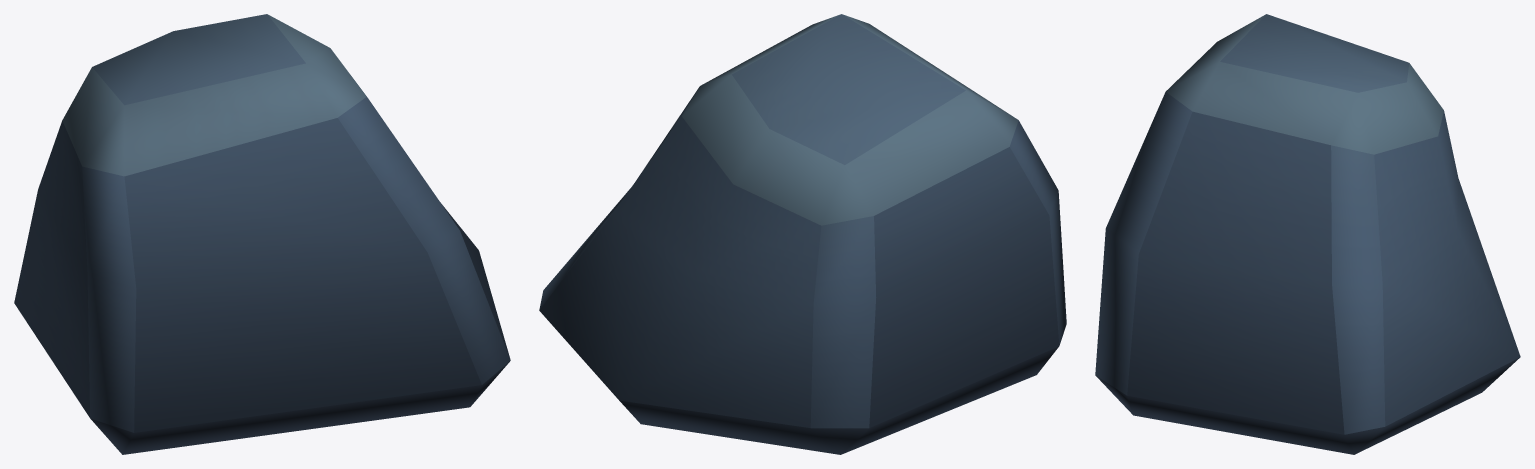
Rendered from rock_01.fbx.
3 views of the same model, side by side, from view 1: azimuth 30°, elevation 25°; view 2: azimuth 150°, elevation 25°; view 3: azimuth 270°, elevation 25° (orthographic). The views are drawn at different scales.
Parts seen in each view (by area): view 1: rock_01; view 2: rock_01; view 3: rock_01.
Boxes of the visible parts, box(x1,y1,x2,y2) form: rock_01: box(14, 14, 510, 454); rock_01: box(539, 14, 1066, 454); rock_01: box(1095, 14, 1520, 454).
Size of the model in its own units: 49.41 by 34.3 by 43.67.
Materials: 1 (1 with a texture image).
